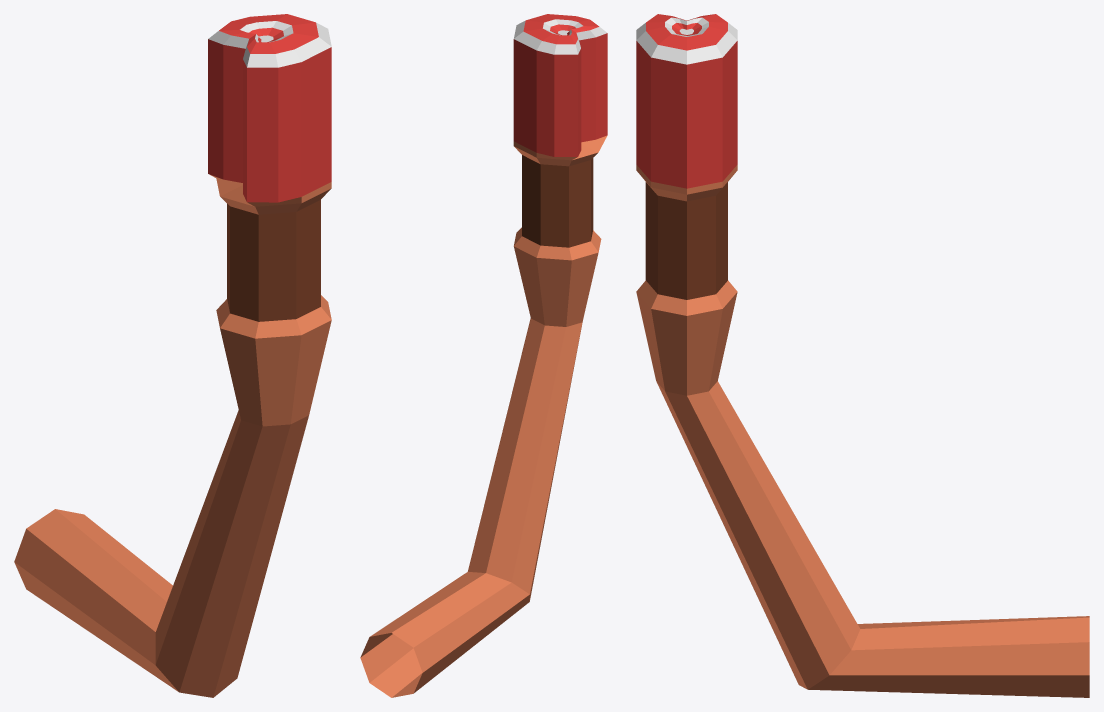
Rendered from torch.fbx.
The picture shows the model from 3 angles, left to right: view 1: azimuth 30°, elevation 25°; view 2: azimuth 150°, elevation 25°; view 3: azimuth 270°, elevation 25°; orthographic projection. The views are drawn at different scales.
Visible parts, largest first — view 1: Circle; view 2: Circle; view 3: Circle.
Part boxes in pixels (<box>): Circle: <box>14,14,331,697</box>; Circle: <box>360,14,607,697</box>; Circle: <box>636,14,1089,697</box>.
Size of the model in its own units: 108 by 691 by 426.
